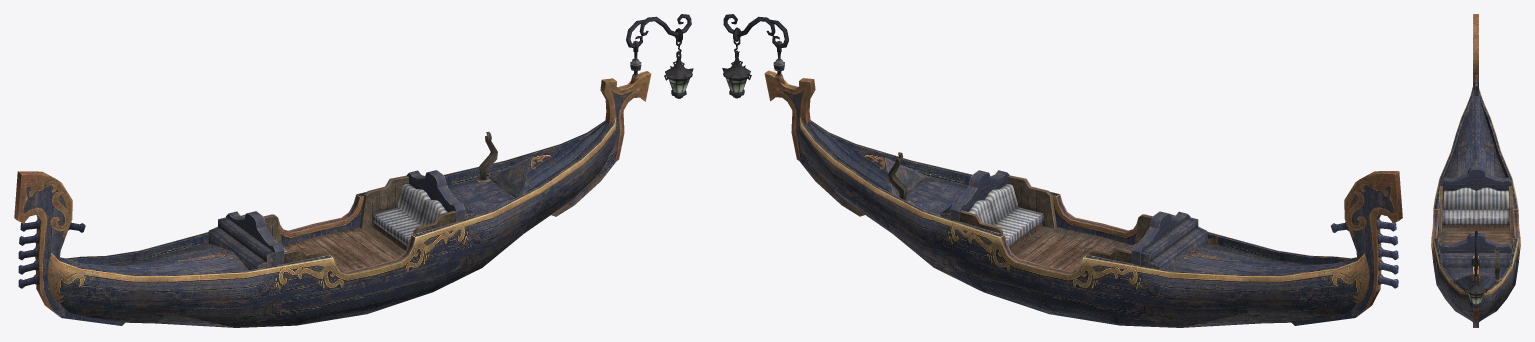
The model's file is Boat01.FBX.
3 renders of one model, left to right at view 1: azimuth 30°, elevation 25°; view 2: azimuth 150°, elevation 25°; view 3: azimuth 270°, elevation 25°, orthographic. The views are drawn at different scales.
Parts seen in each view (by area): view 1: LV_Spechia_Object_Gondola01_SM_NWCKAK; view 2: LV_Spechia_Object_Gondola01_SM_NWCKAK; view 3: LV_Spechia_Object_Gondola01_SM_NWCKAK.
Part boxes in pixels (left/top/right/bottom): LV_Spechia_Object_Gondola01_SM_NWCKAK: left=14, top=14, right=693, bottom=327; LV_Spechia_Object_Gondola01_SM_NWCKAK: left=722, top=14, right=1402, bottom=327; LV_Spechia_Object_Gondola01_SM_NWCKAK: left=1431, top=14, right=1520, bottom=327.
Bounding box in the file's own units: 270 × 80.56 × 42.87.
